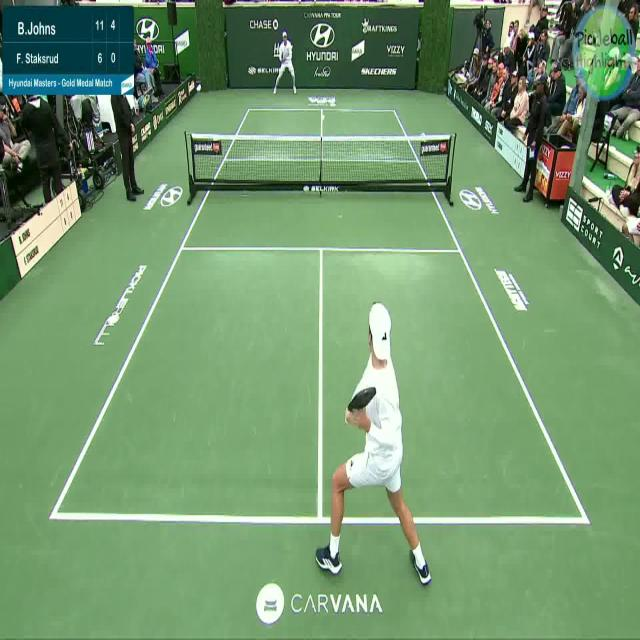Court: (49, 107, 591, 523)
ball: (319, 114, 328, 125)
